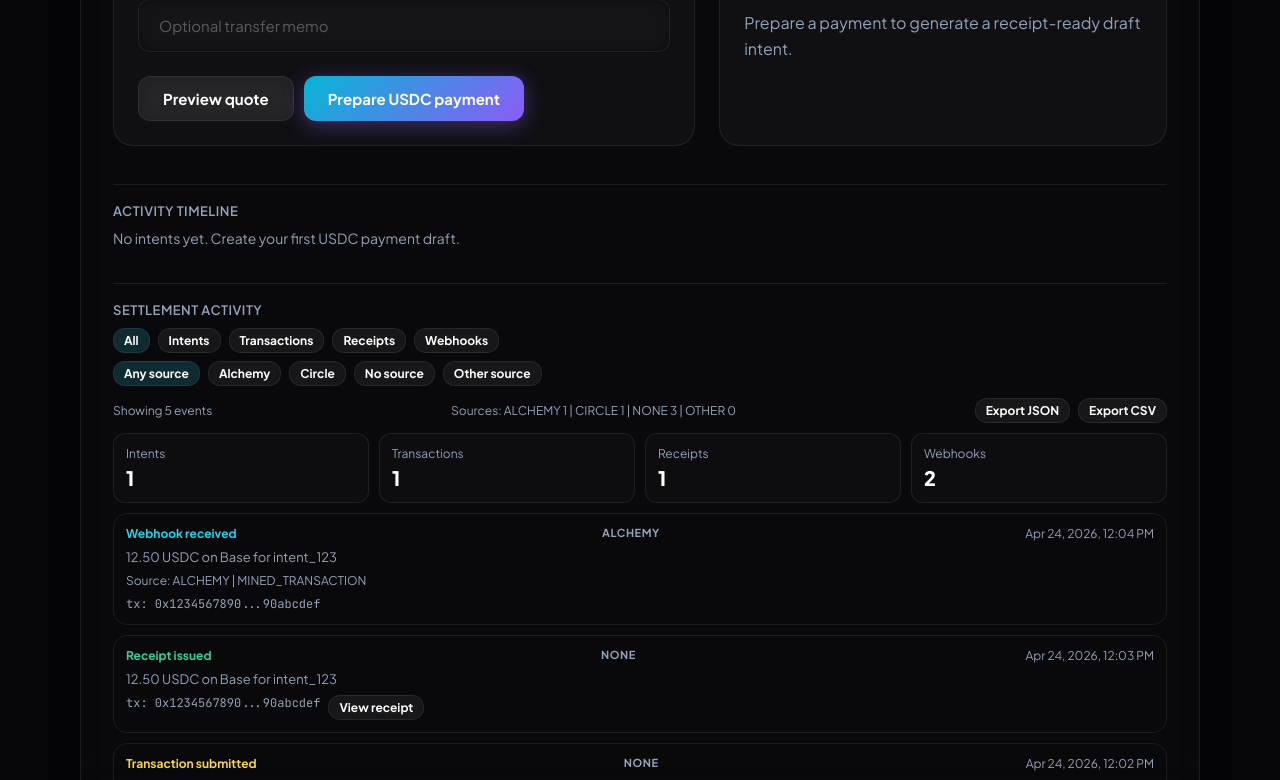
Test: ProductionWalletApp › filters settlement activity by kind and provider source while deduping duplicates
(page scrolled)
Click the button "Webhooks" at (457, 341), box [414,328,499,353]
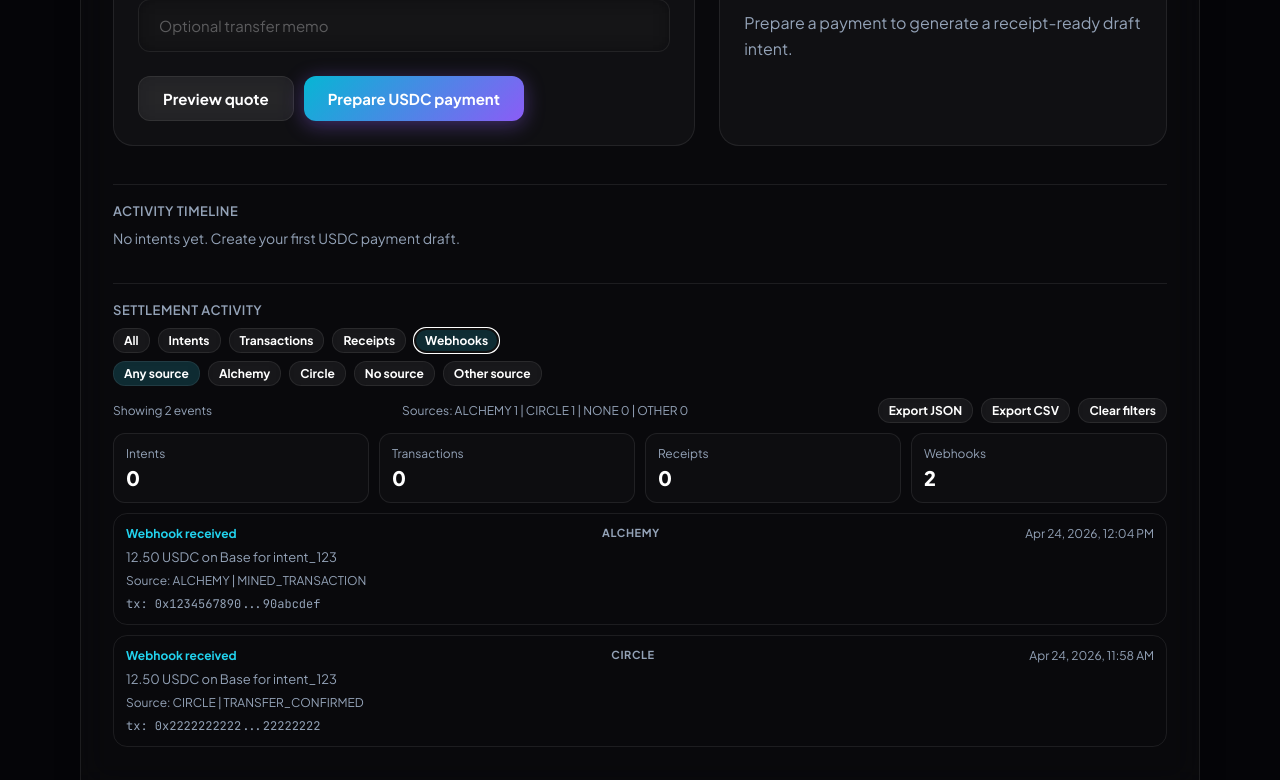
Click the button "Circle" at (318, 374), box [289,361,346,386]
(page scrolled)
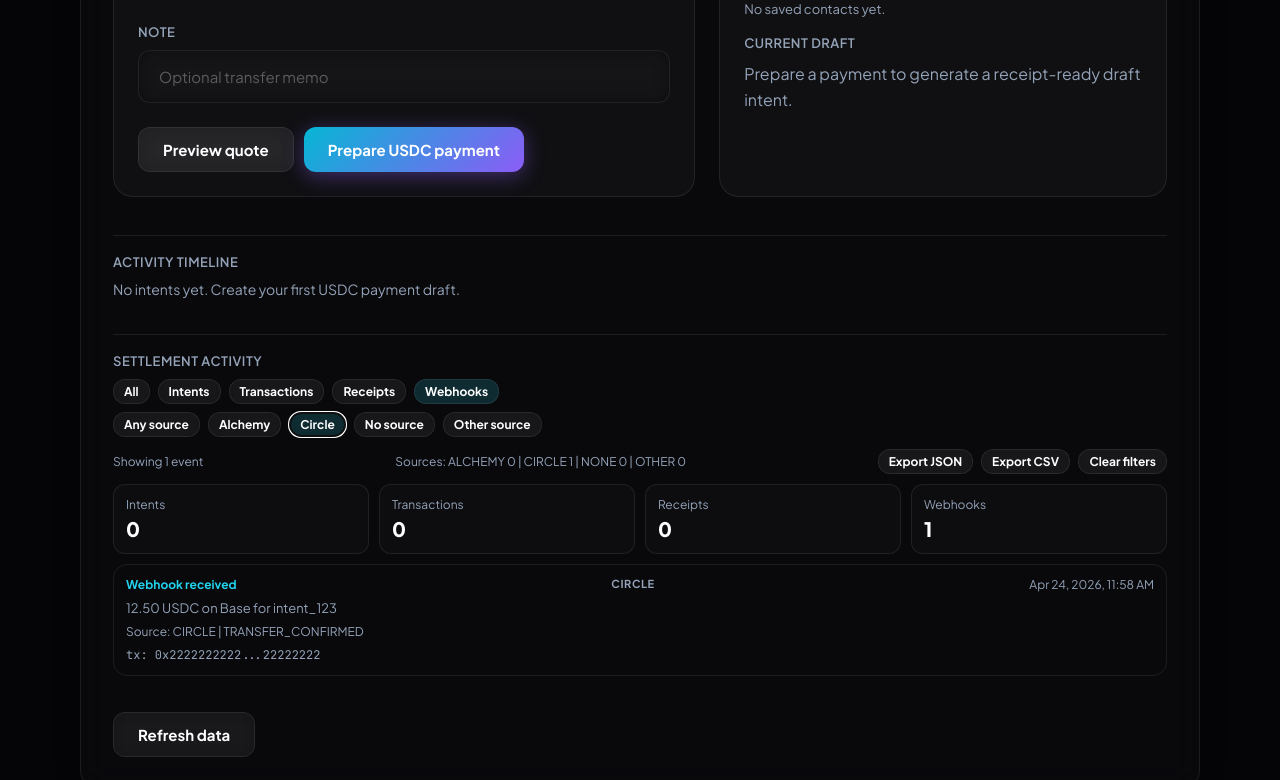
Expected: the text "Source: CIRCLE | TRANSFER_CONFIRMED" is shown, [126,624,364,639]
Now the text "Source: ALCHEMY" is gone
